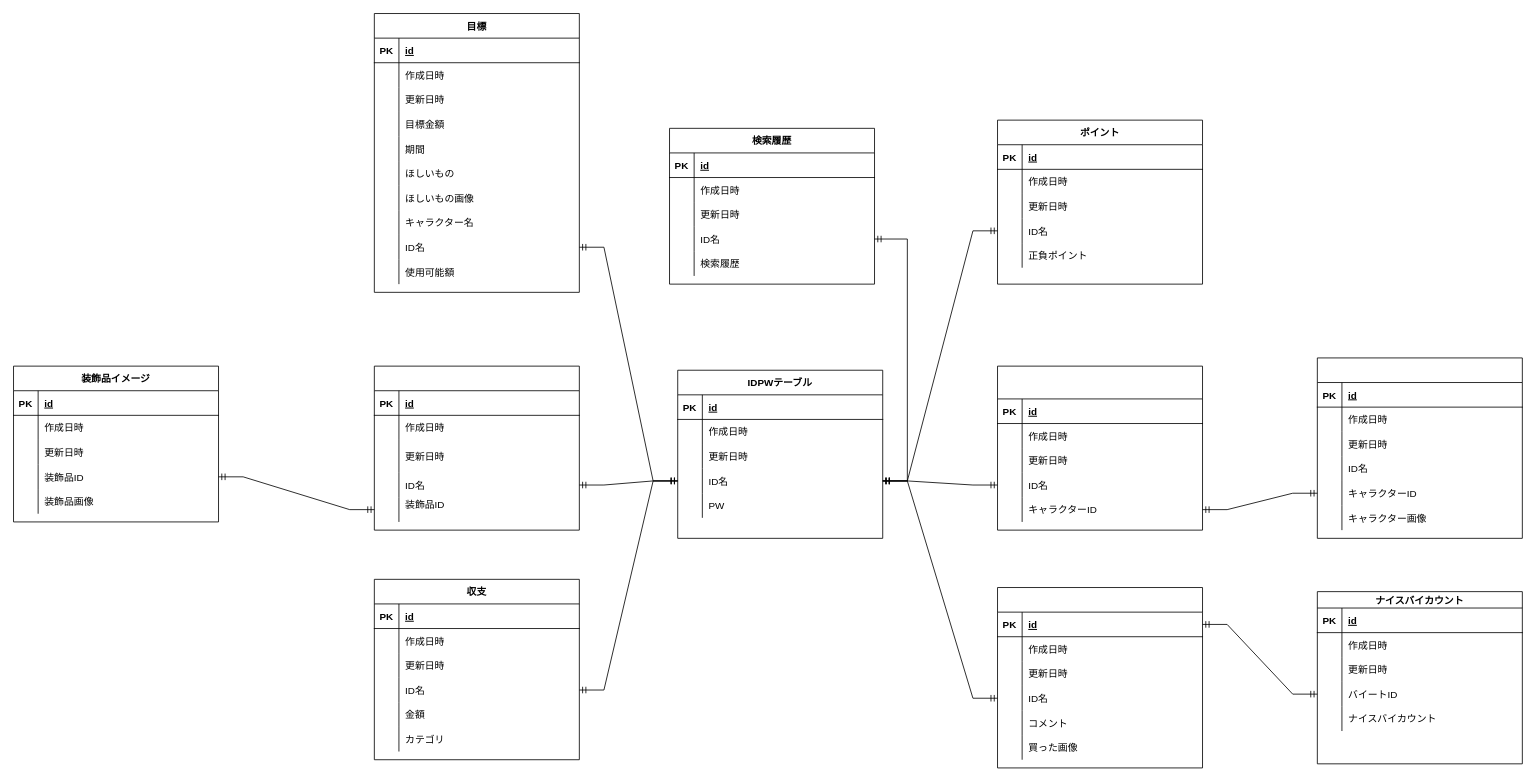
This 1536x781 diagram has some shape labels left out. Each missing label, with the box of its shape:
キャラクターイメージ: (1317, 357, 1522, 538)
キャラクターステータス: (997, 365, 1203, 530)
投稿: (997, 587, 1203, 768)
装飾品ステータス: (374, 365, 579, 530)
